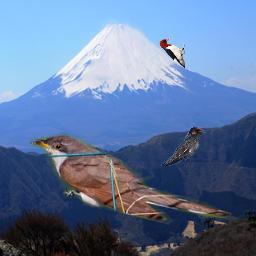Cuckoo: (28, 130, 234, 230)
Swallow: (161, 127, 206, 166)
Woodpecker: (159, 37, 185, 68)
